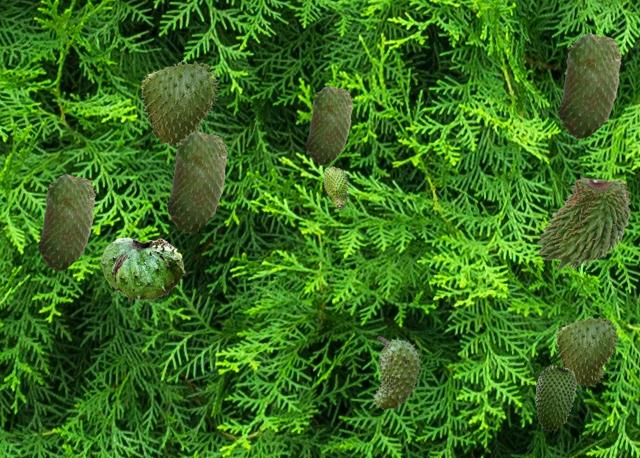guyabano: (536, 174, 630, 268), (141, 60, 219, 149), (557, 32, 621, 139), (166, 130, 227, 233), (37, 173, 95, 271), (100, 237, 184, 303), (556, 316, 618, 387), (372, 336, 423, 411), (305, 85, 352, 165), (535, 365, 575, 431), (323, 166, 348, 209)
